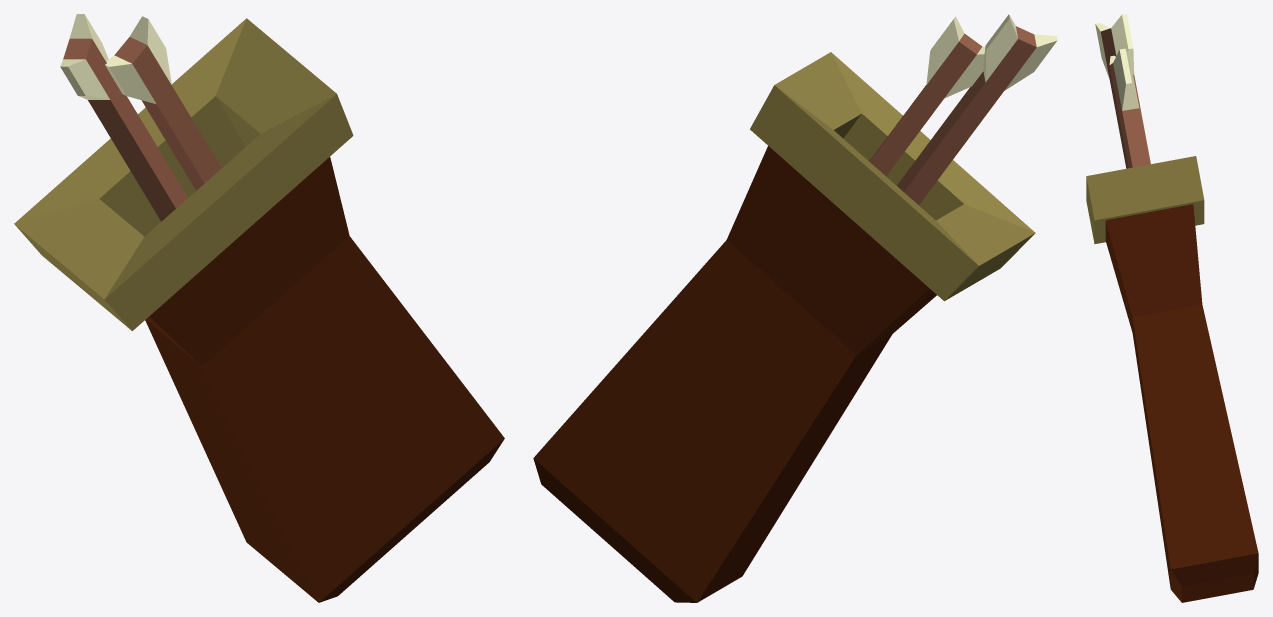
File: optomized_quivers.glb
3 views of the same model, side by side, from view 1: azimuth 30°, elevation 25°; view 2: azimuth 150°, elevation 25°; view 3: azimuth 270°, elevation 25° (orthographic). The views are drawn at different scales.
Visible parts, largest first — view 1: Cube; view 2: Cube; view 3: Cube.
Boxes of the visible parts, x1=… form: Cube: x1=14, y1=14, x2=504, y2=602; Cube: x1=533, y1=14, x2=1057, y2=602; Cube: x1=1086, y1=14, x2=1258, y2=602.
Bounding box in the file's own units: 2.55 × 3.38 × 1.08.
Materials: 2 (2 with a texture image).
